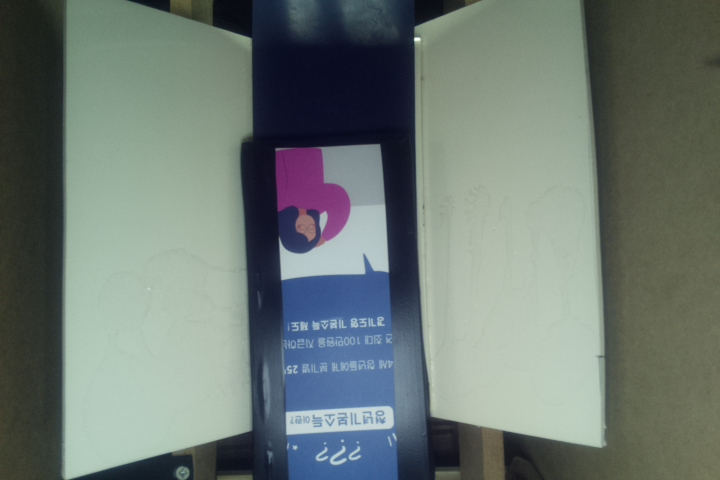book: (242, 133, 436, 480)
